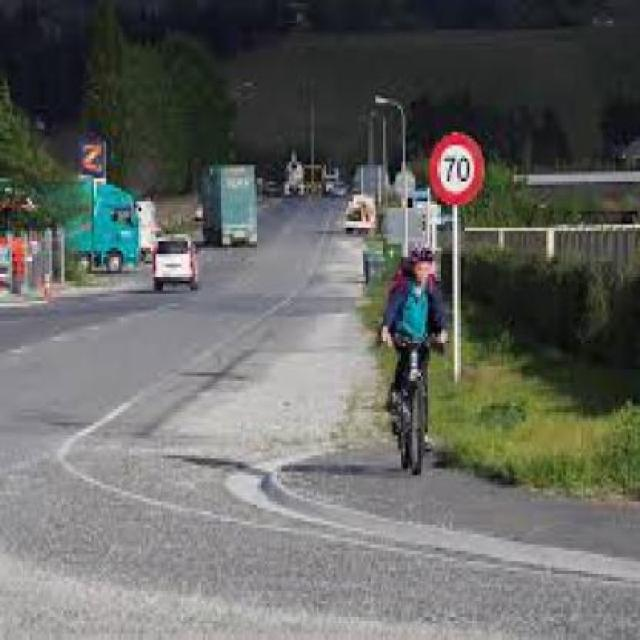forb_speed_over_70: (430, 126, 487, 215)
